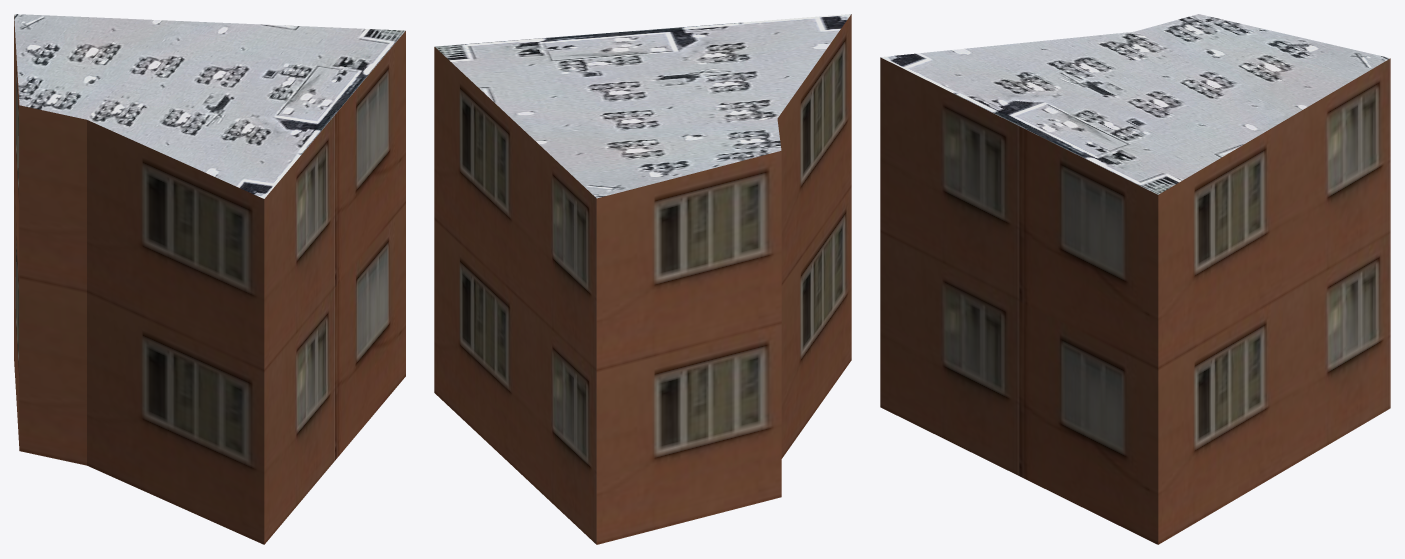
Rendered from ResTex__4664.fbx.
The picture shows the model from 3 angles, left to right: view 1: azimuth 30°, elevation 25°; view 2: azimuth 150°, elevation 25°; view 3: azimuth 270°, elevation 25°; orthographic projection.
Visible parts, largest first — view 1: CityEngineMaterial_20_m, CityEngineMaterial_4_m; view 2: CityEngineMaterial_20_m, CityEngineMaterial_4_m; view 3: CityEngineMaterial_20_m, CityEngineMaterial_4_m.
Boxes of the visible parts, x1,y1,x2,y2 form: CityEngineMaterial_20_m: (14,15,405,544); CityEngineMaterial_4_m: (14,14,405,198); CityEngineMaterial_20_m: (434,14,851,544); CityEngineMaterial_4_m: (435,14,850,198); CityEngineMaterial_20_m: (880,57,1390,544); CityEngineMaterial_4_m: (880,14,1390,194).
Bounding box in the file's own units: 6.65 × 6 × 7.93.
2 materials, 2 textured.
